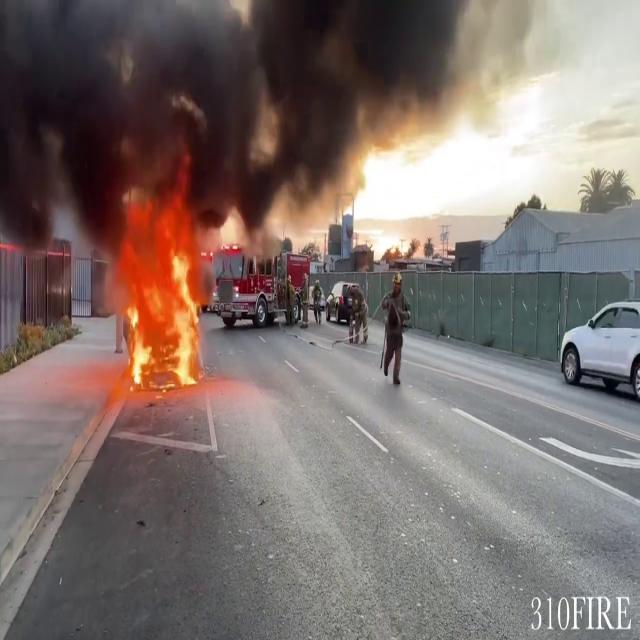Fire: (116, 202, 207, 388)
Smoke: (0, 0, 433, 243)
